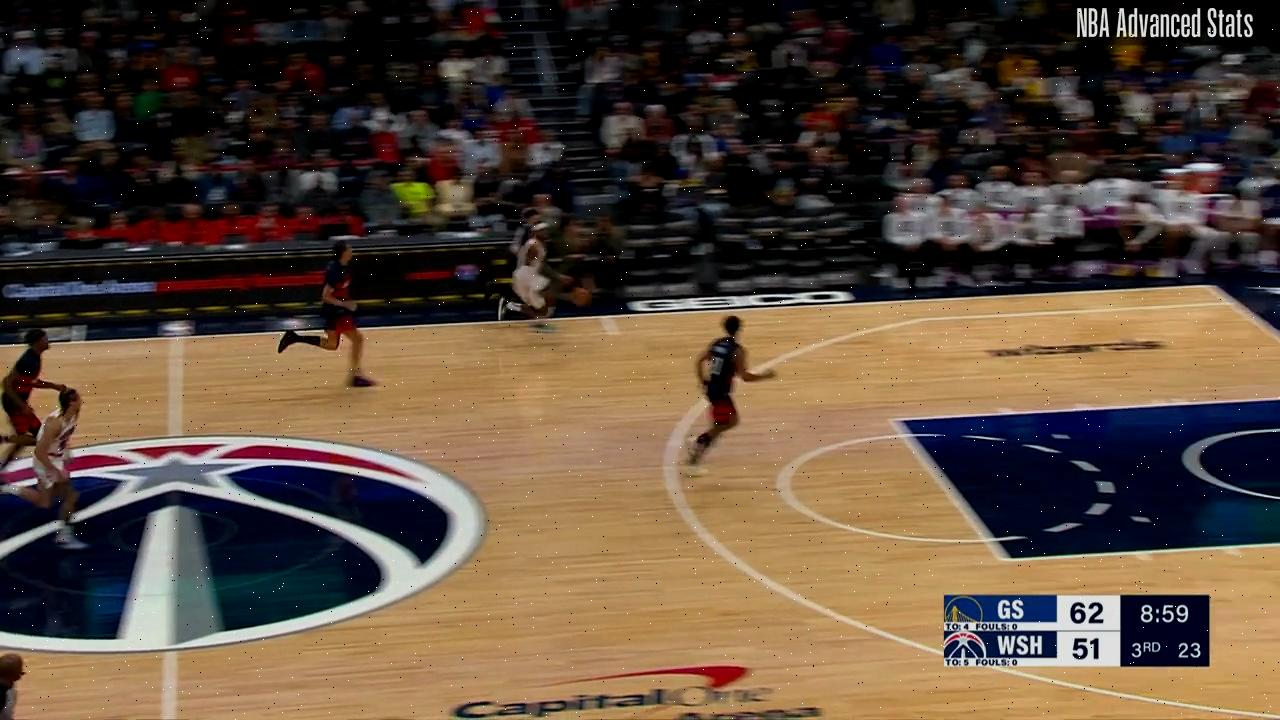basketball: (569, 286, 593, 309)
